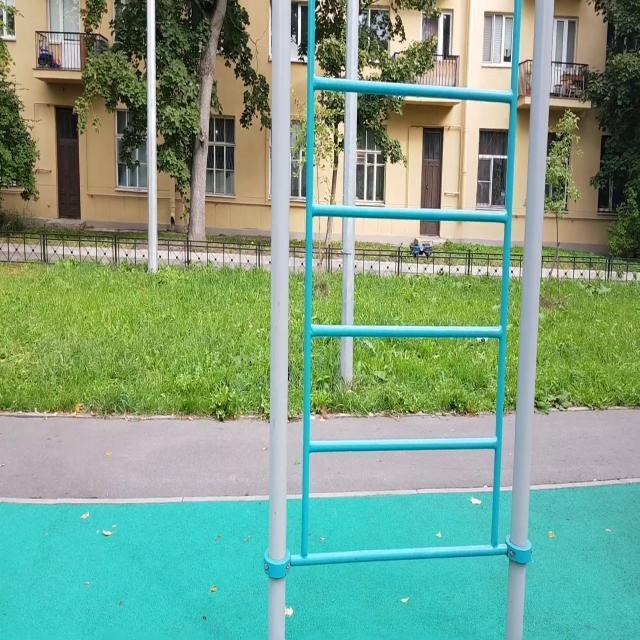Drons: (408, 241, 434, 259)
